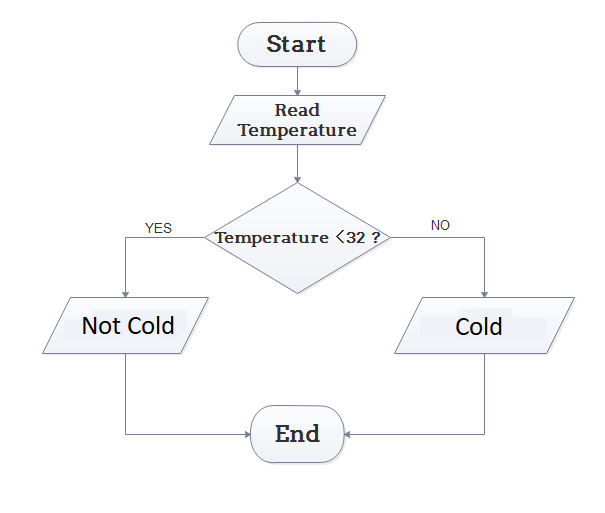arrow: (344, 353, 488, 438), (121, 357, 250, 440), (396, 234, 490, 299), (119, 235, 205, 296), (291, 146, 302, 182), (292, 67, 304, 96)
data: (394, 296, 575, 355), (42, 296, 209, 355), (208, 93, 386, 147)
decision: (204, 183, 391, 294)
terminator: (248, 403, 347, 464), (234, 21, 359, 68)
text: (235, 100, 358, 139), (215, 228, 382, 248), (80, 313, 177, 339), (265, 34, 328, 54), (273, 421, 321, 445), (454, 316, 504, 337), (143, 220, 175, 233), (430, 218, 452, 233)
